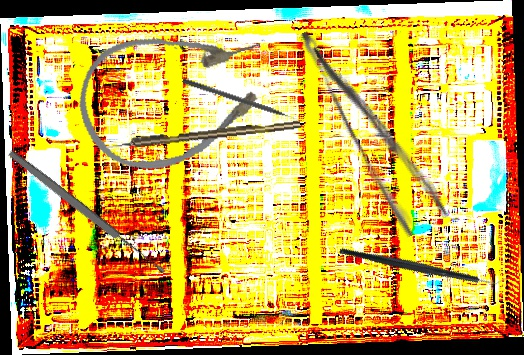Cannula: (66, 11, 282, 184)
Chopper: (338, 193, 511, 337)
Dressing Forceps: (296, 12, 450, 240)
Hook Surgical: (105, 119, 301, 151)
Pusher: (181, 77, 304, 126)
Surgical Spoon: (6, 147, 168, 278)
